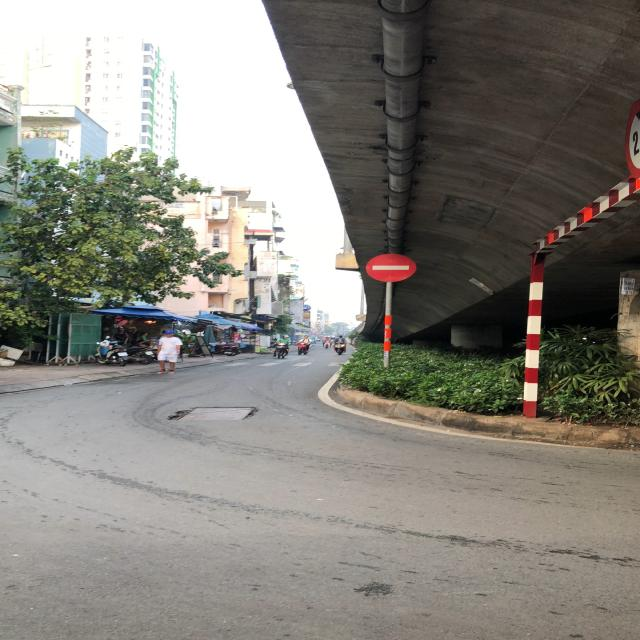Bien bao cam di nguoc chieu: (360, 250, 427, 286)
